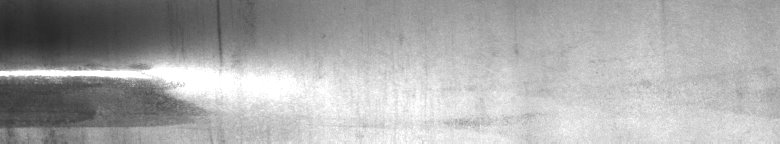ke: (4, 4, 236, 136)
